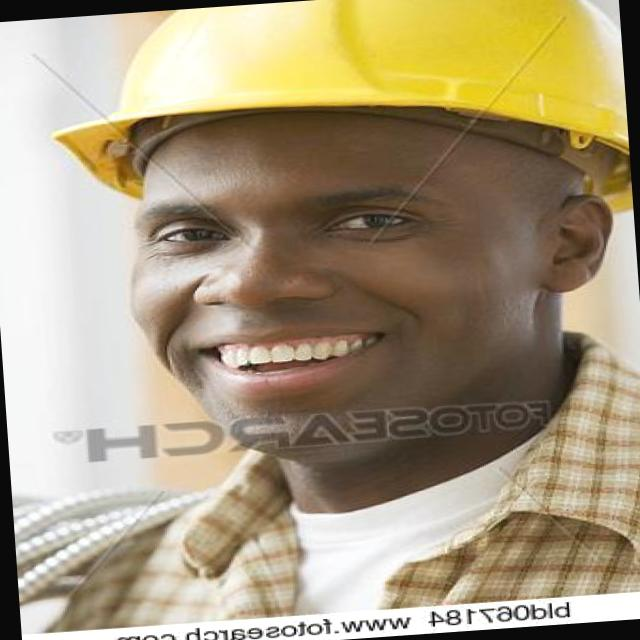helmet: (0, 0, 617, 221)
